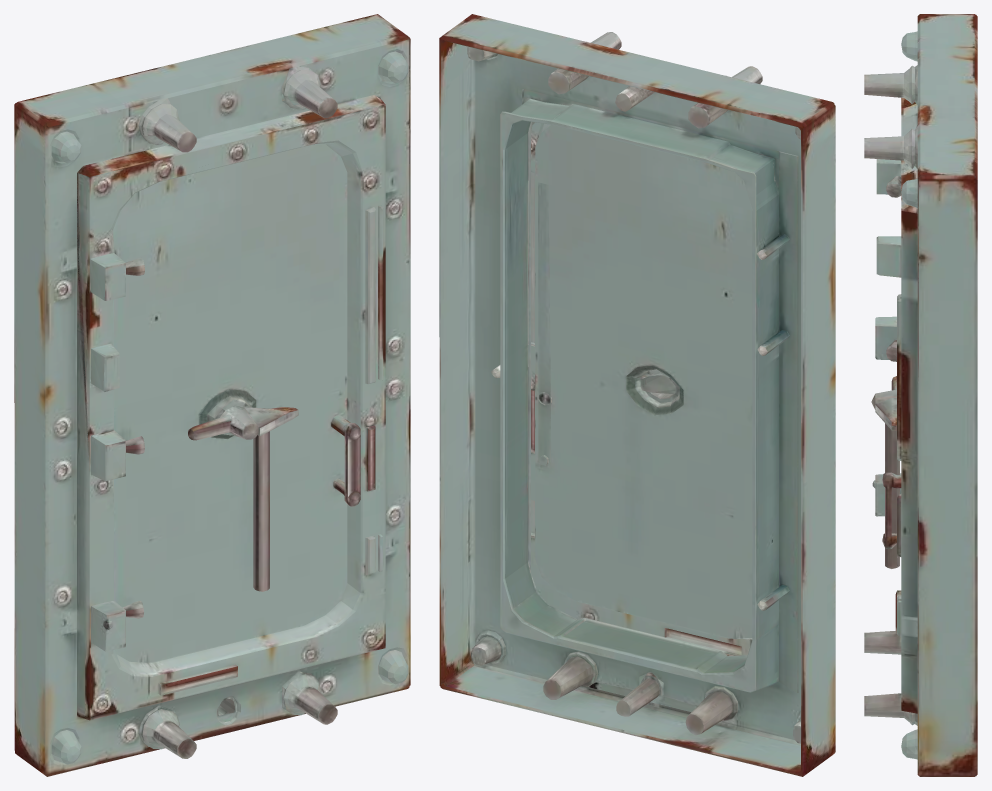
The model's file is ship_hatch.glb.
The picture shows the model from 3 angles, left to right: view 1: azimuth 30°, elevation 25°; view 2: azimuth 150°, elevation 25°; view 3: azimuth 270°, elevation 25°; orthographic projection. The views are drawn at different scales.
Parts seen in each view (by area): view 1: mesh_node; view 2: mesh_node; view 3: mesh_node.
Part boxes in pixels (x1=…): mesh_node: x1=14, y1=14, x2=410, y2=776; mesh_node: x1=439, y1=14, x2=835, y2=776; mesh_node: x1=864, y1=14, x2=977, y2=776.
Size of the model in its own units: 1.12 by 1.91 by 0.3248.
1 material, 1 textured.
